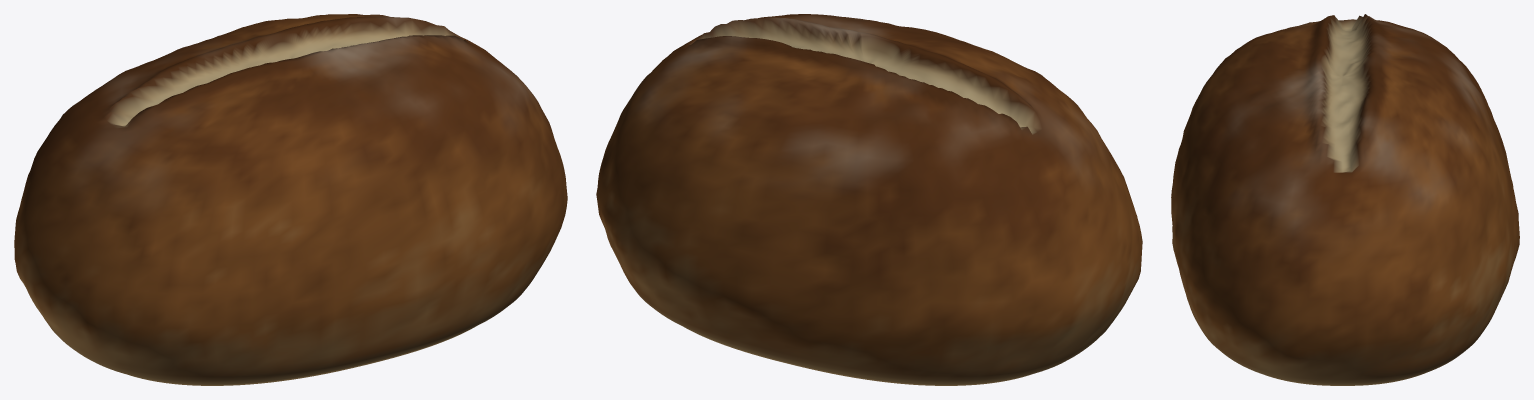
The model's file is samstagsweck.glb.
3 renders of one model, left to right at view 1: azimuth 30°, elevation 25°; view 2: azimuth 150°, elevation 25°; view 3: azimuth 270°, elevation 25°, orthographic. The views are drawn at different scales.
Visible parts, largest first — view 1: samstagsweck; view 2: samstagsweck; view 3: samstagsweck.
Part boxes in pixels (x1,y1,x2,y2): samstagsweck: (14,14,567,385); samstagsweck: (596,14,1142,385); samstagsweck: (1171,14,1519,385).
Size of the model in its own units: 0.12 by 0.06 by 0.08.
